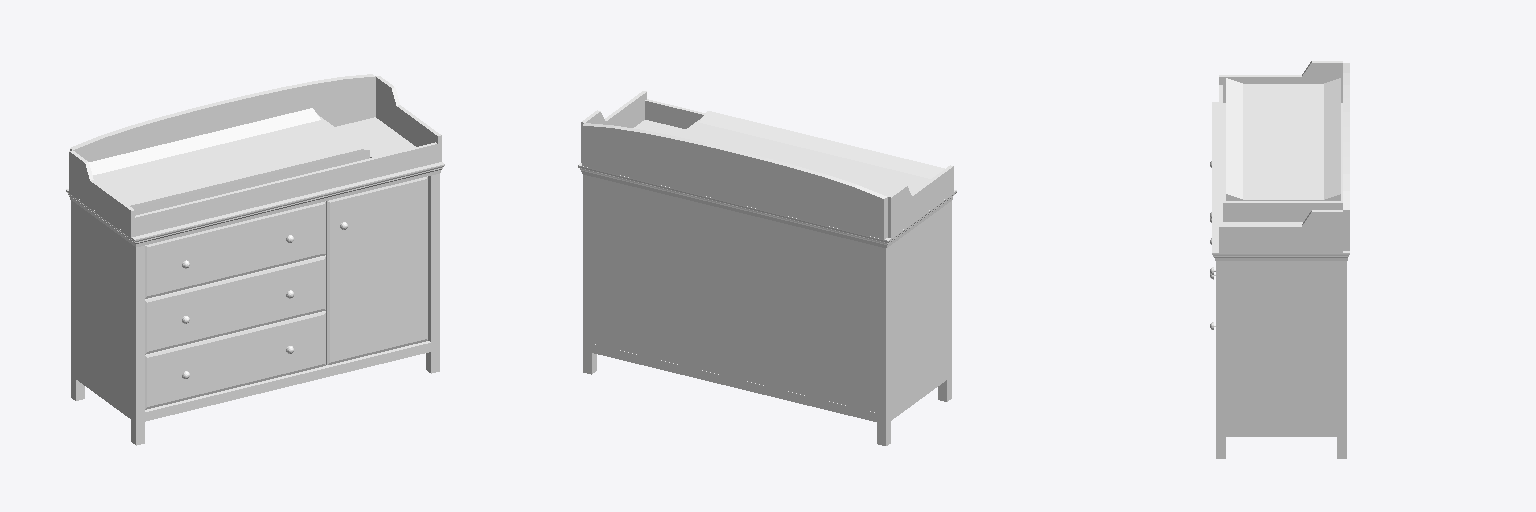
Rendered from changing-table.obj.
3 views of the same model, side by side, from view 1: azimuth 30°, elevation 25°; view 2: azimuth 150°, elevation 25°; view 3: azimuth 270°, elevation 25° (orthographic).
Parts seen in each view (by area): view 1: changing-table; view 2: changing-table; view 3: changing-table.
Boxes of the visible parts, x1,y1,x2,y2 form: changing-table: [66, 74, 444, 445]; changing-table: [578, 91, 956, 445]; changing-table: [1210, 61, 1349, 458].
Size of the model in its own units: 1.97 by 1.56 by 0.7714.